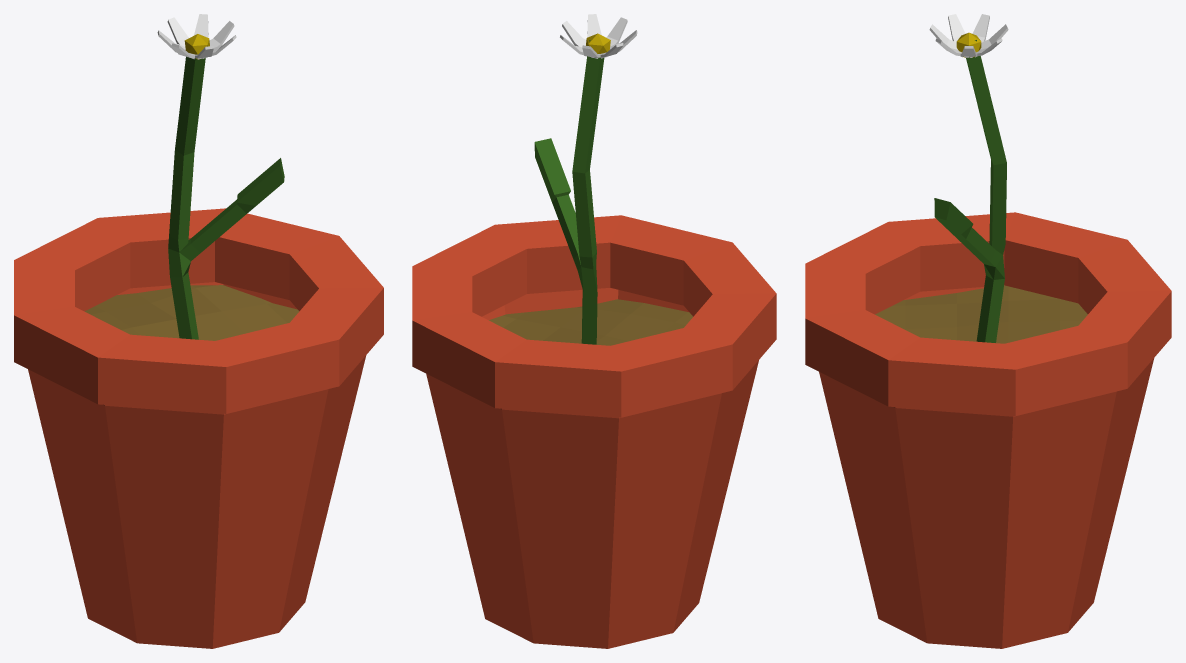
The model's file is Vase.fbx.
3 renders of one model, left to right at view 1: azimuth 30°, elevation 25°; view 2: azimuth 150°, elevation 25°; view 3: azimuth 270°, elevation 25°, orthographic.
Parts seen in each view (by area): view 1: Vase; view 2: Vase; view 3: Vase.
Part boxes in pixels (x1,y1,x2,y2): Vase: [14, 14, 383, 648]; Vase: [412, 14, 776, 648]; Vase: [805, 14, 1171, 648].
Size of the model in its own units: 59.09 by 100 by 58.19.
